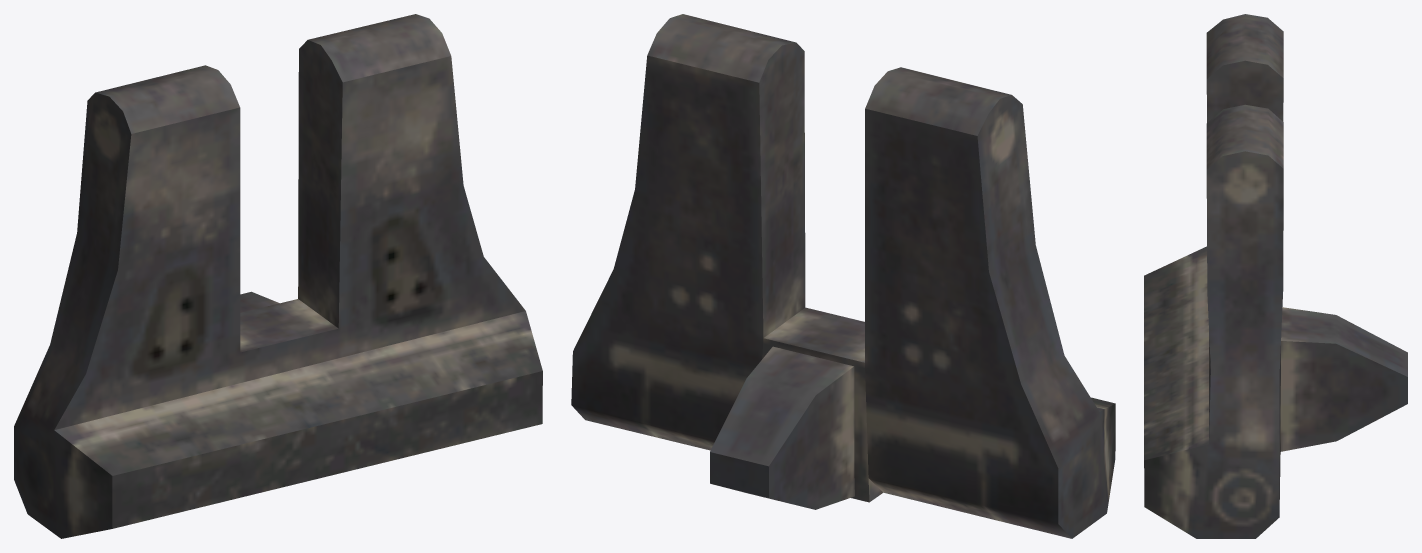
3 renders of one model, left to right at view 1: azimuth 30°, elevation 25°; view 2: azimuth 150°, elevation 25°; view 3: azimuth 270°, elevation 25°, orthographic. The views are drawn at different scales.
Visible parts, largest first — view 1: set_0_group_0; view 2: set_0_group_0; view 3: set_0_group_0.
Part boxes in pixels (bbox=[...]): set_0_group_0: bbox=[14, 14, 542, 538]; set_0_group_0: bbox=[571, 14, 1115, 538]; set_0_group_0: bbox=[1144, 14, 1407, 538].
Size of the model in its own units: 0.4052 by 0.3313 by 0.2231.
Materials: 1 (1 with a texture image).
